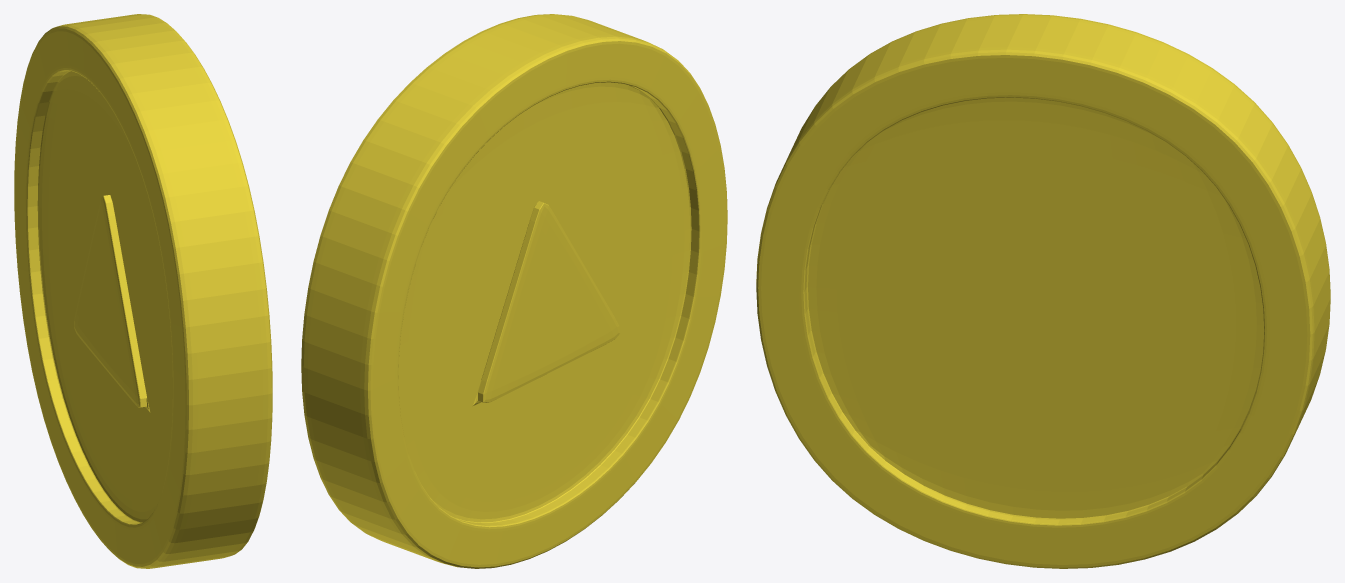
The model's file is Coin.fbx.
3 views of the same model, side by side, from view 1: azimuth 30°, elevation 25°; view 2: azimuth 150°, elevation 25°; view 3: azimuth 270°, elevation 25° (orthographic). The views are drawn at different scales.
Parts seen in each view (by area): view 1: Cube; view 2: Cube; view 3: Cube.
Part boxes in pixels (bbox=[...]): Cube: bbox=[14, 14, 272, 568]; Cube: bbox=[301, 14, 727, 568]; Cube: bbox=[756, 14, 1330, 568].
Size of the model in its own units: 65.4 by 183 by 185.
